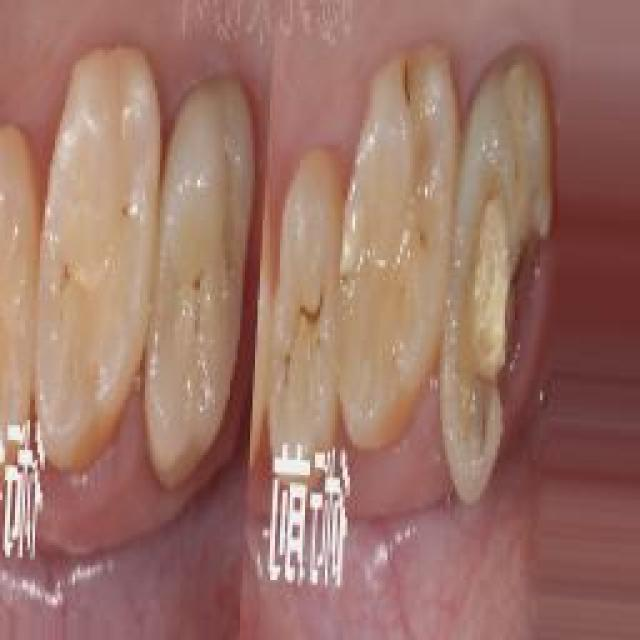caries: (463, 165, 528, 445), (277, 287, 325, 365)
